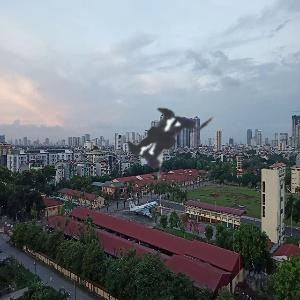drone: (84, 59, 251, 226)
